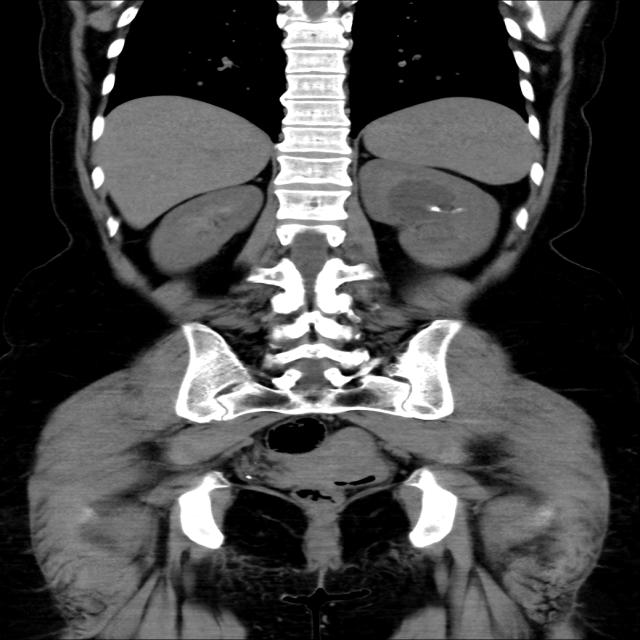kidneystone: (429, 205, 466, 217)
